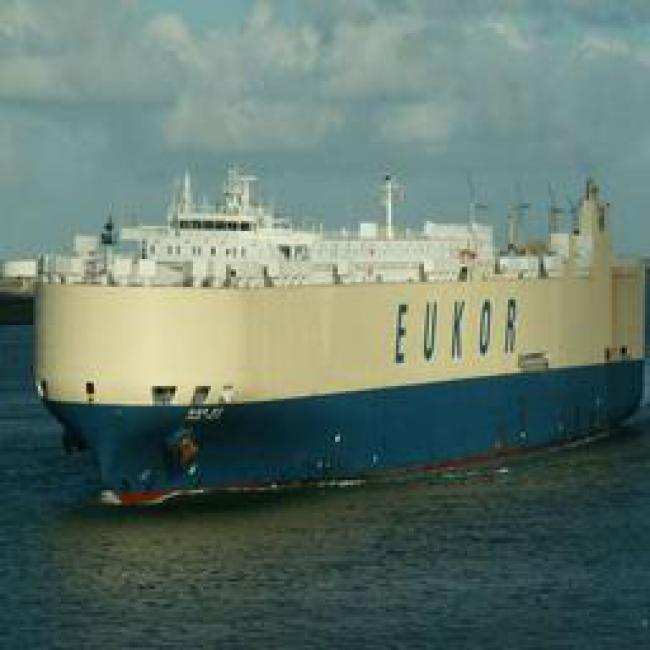Ship: (7, 235, 646, 474)
